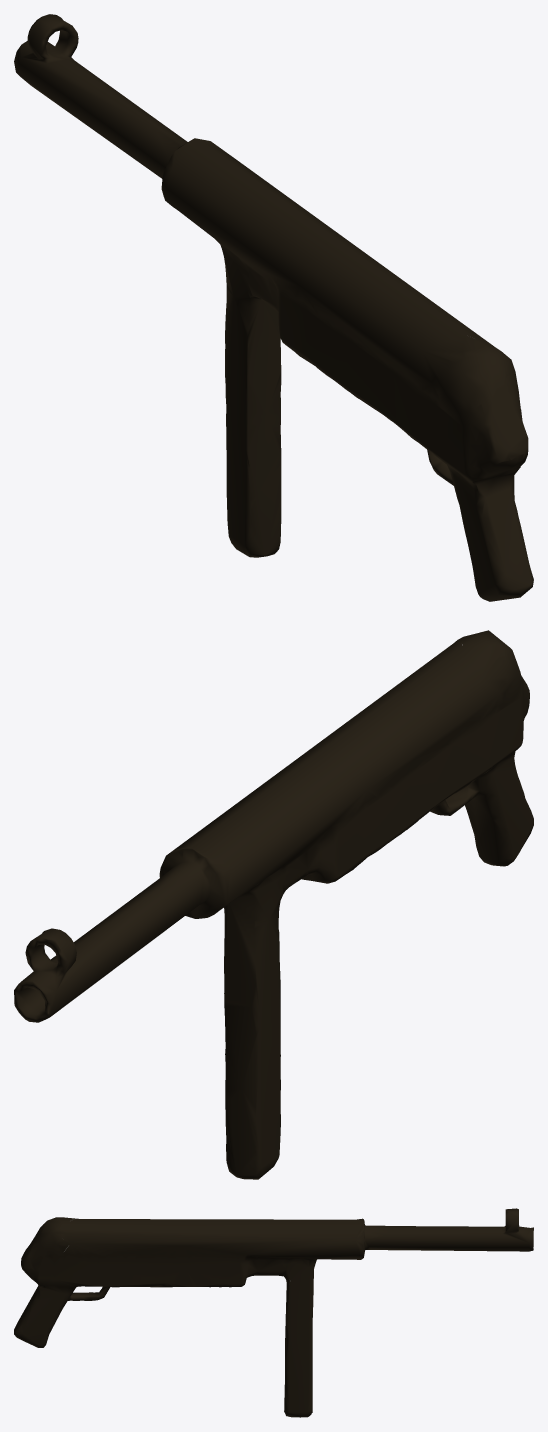
File: metralleta.fbx
3 renders of one model, top to bottom at view 1: azimuth 30°, elevation 25°; view 2: azimuth 150°, elevation 25°; view 3: azimuth 270°, elevation 25°, orthographic. The views are drawn at different scales.
Parts seen in each view (by area): view 1: metralleta; view 2: metralleta; view 3: metralleta.
Boxes of the visible parts, x1,y1,x2,y2 form: metralleta: (14,14,533,601); metralleta: (14,630,533,1179); metralleta: (14,1208,533,1417).
Bounding box in the file's own units: 13.81 × 171 × 74.11.
1 material, 1 textured.
